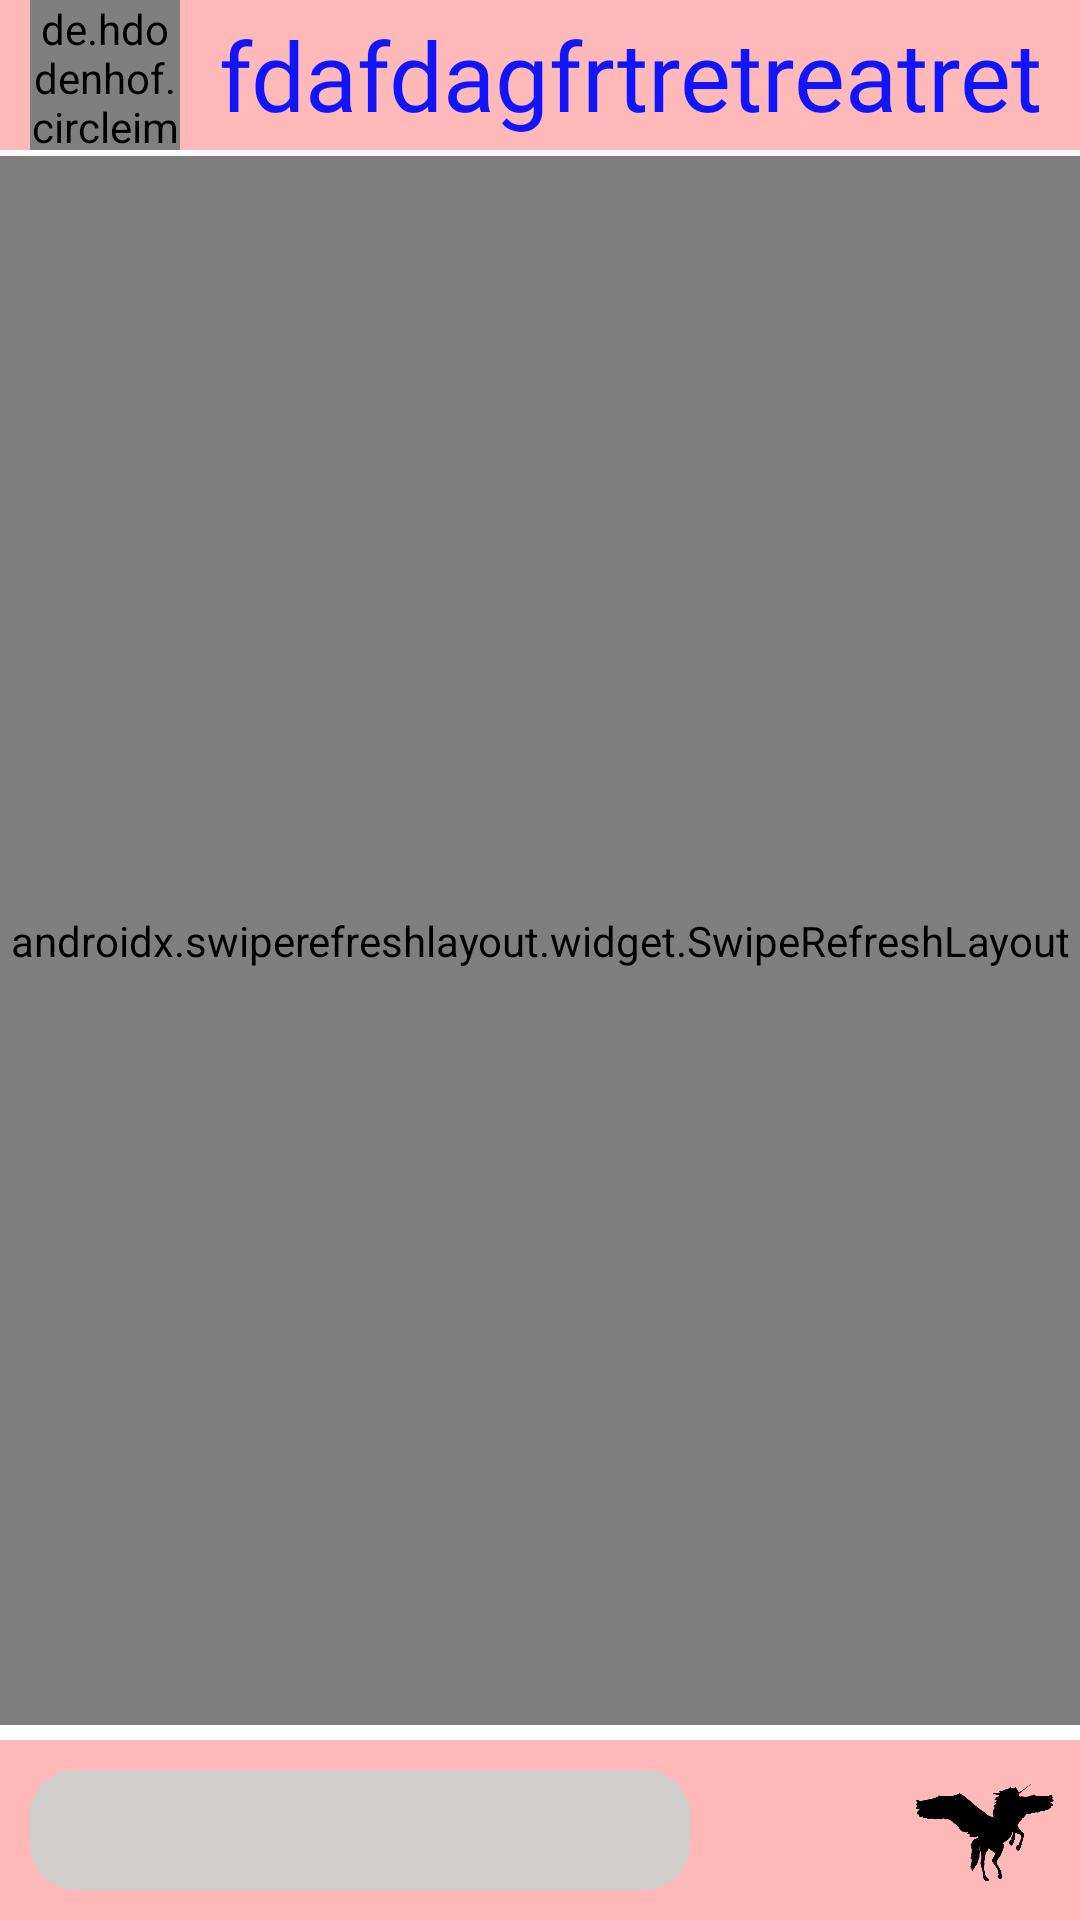

Named icons in this screenshot (1080x1920) and their centers, [x,y]:
horse message: [984,1832]
